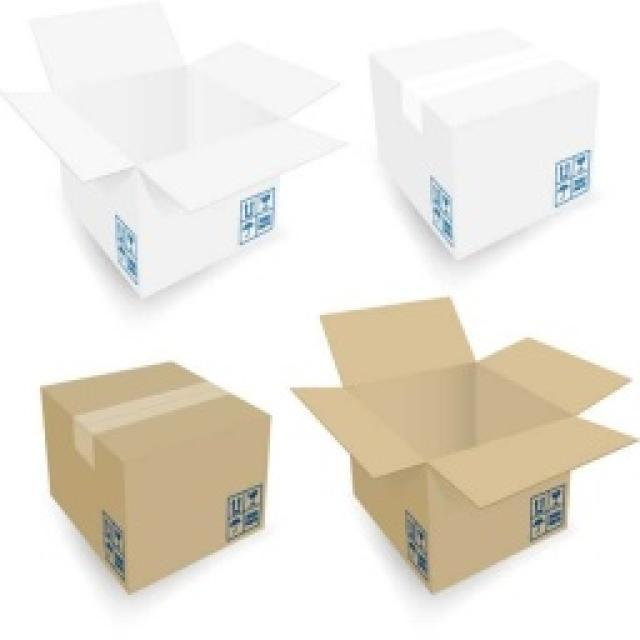box: (14, 12, 342, 294), (320, 307, 634, 581), (32, 351, 286, 583), (370, 38, 612, 253)
